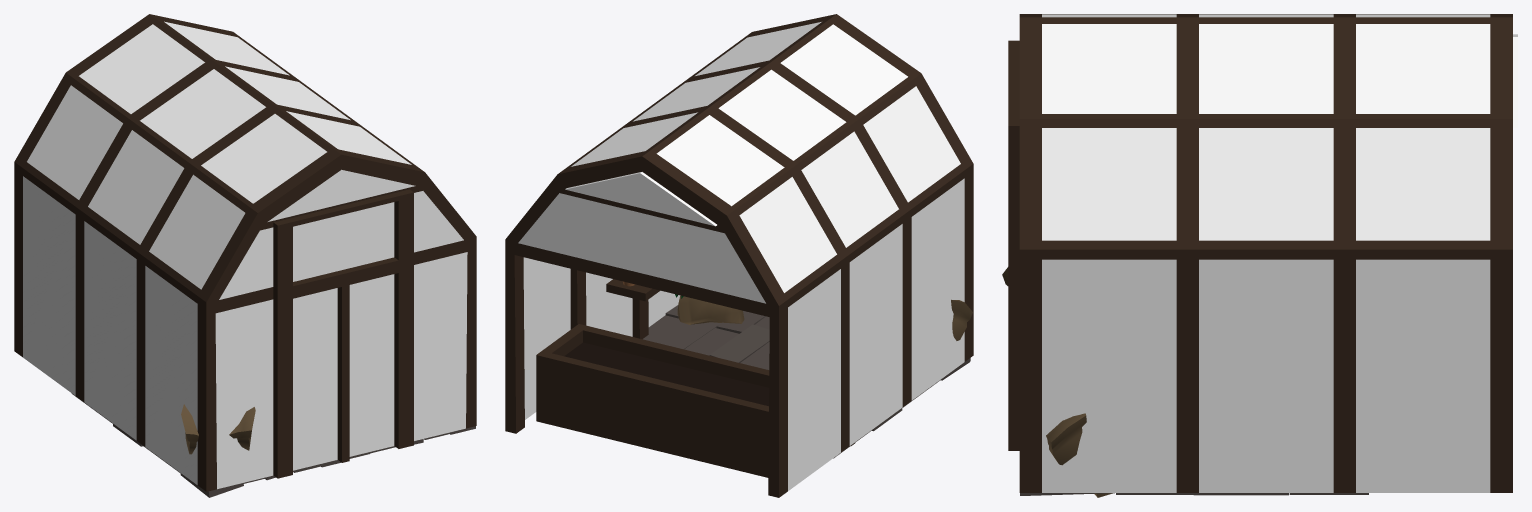
The model's file is GLF_Greenhouse.fbx.
3 views of the same model, side by side, from view 1: azimuth 30°, elevation 25°; view 2: azimuth 150°, elevation 25°; view 3: azimuth 270°, elevation 25° (orthographic). The views are drawn at different scales.
Visible parts, largest first — view 1: glass, woodenSupports, bag2, ground; view 2: glass, woodenSupports, planterBox, ground, bag1, shelf2, bag2; view 3: glass, woodenSupports, bag1, ground.
Part boxes in pixels (left/top/right/bottom): glass: left=23, top=21, right=467, bottom=489; woodenSupports: left=14, top=14, right=476, bottom=491; bag2: left=181, top=404, right=255, bottom=454; ground: left=71, top=393, right=475, bottom=497; glass: left=518, top=22, right=964, bottom=490; woodenSupports: left=505, top=14, right=973, bottom=497; planterBox: left=536, top=324, right=769, bottom=477; ground: left=643, top=305, right=970, bottom=458; bag1: left=677, top=295, right=744, bottom=324; shelf2: left=606, top=279, right=659, bottom=301; bag2: left=951, top=299, right=972, bottom=340; glass: left=1042, top=14, right=1517, bottom=492; woodenSupports: left=1008, top=14, right=1512, bottom=492; bag1: left=1046, top=413, right=1112, bottom=497; ground: left=1020, top=493, right=1368, bottom=495.
Bounding box in the file's own units: 967 × 1008 × 1150.
